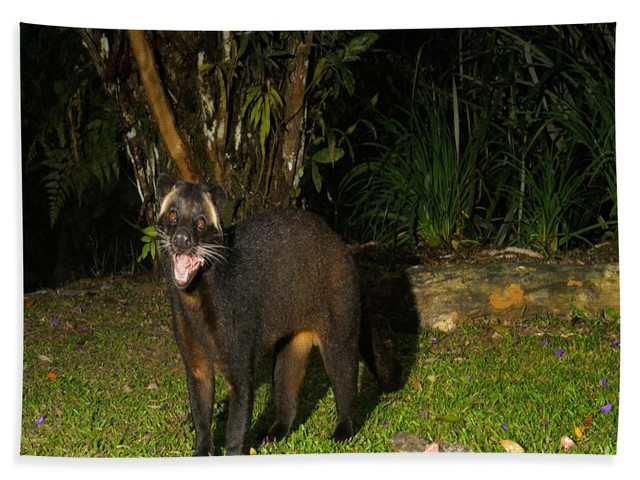civet: (147, 167, 410, 458)
